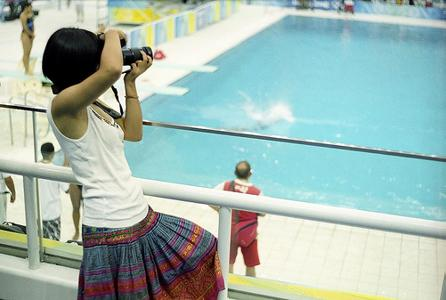person: (44, 28, 227, 299)
